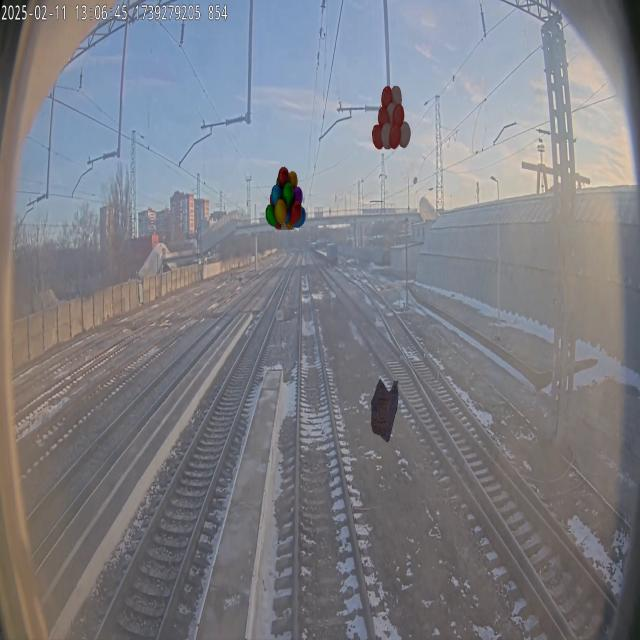balloon: (265, 166, 306, 230), (372, 86, 411, 150)
plastic bag: (371, 378, 398, 442)
